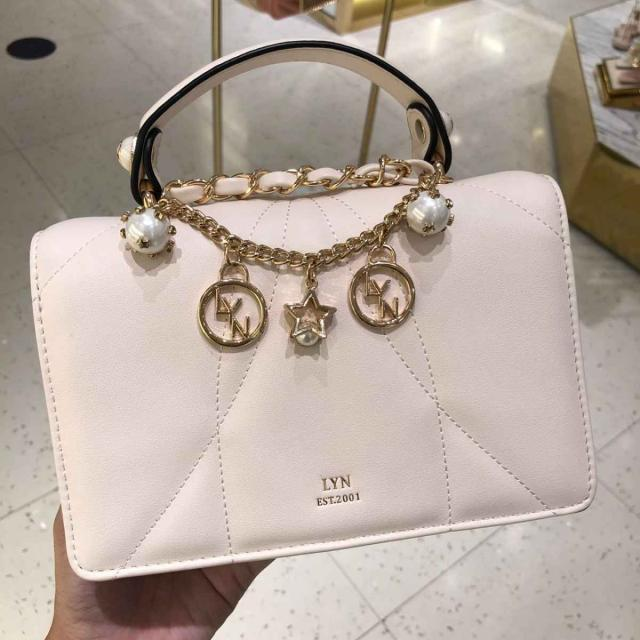Handbag: (22, 29, 627, 588)
